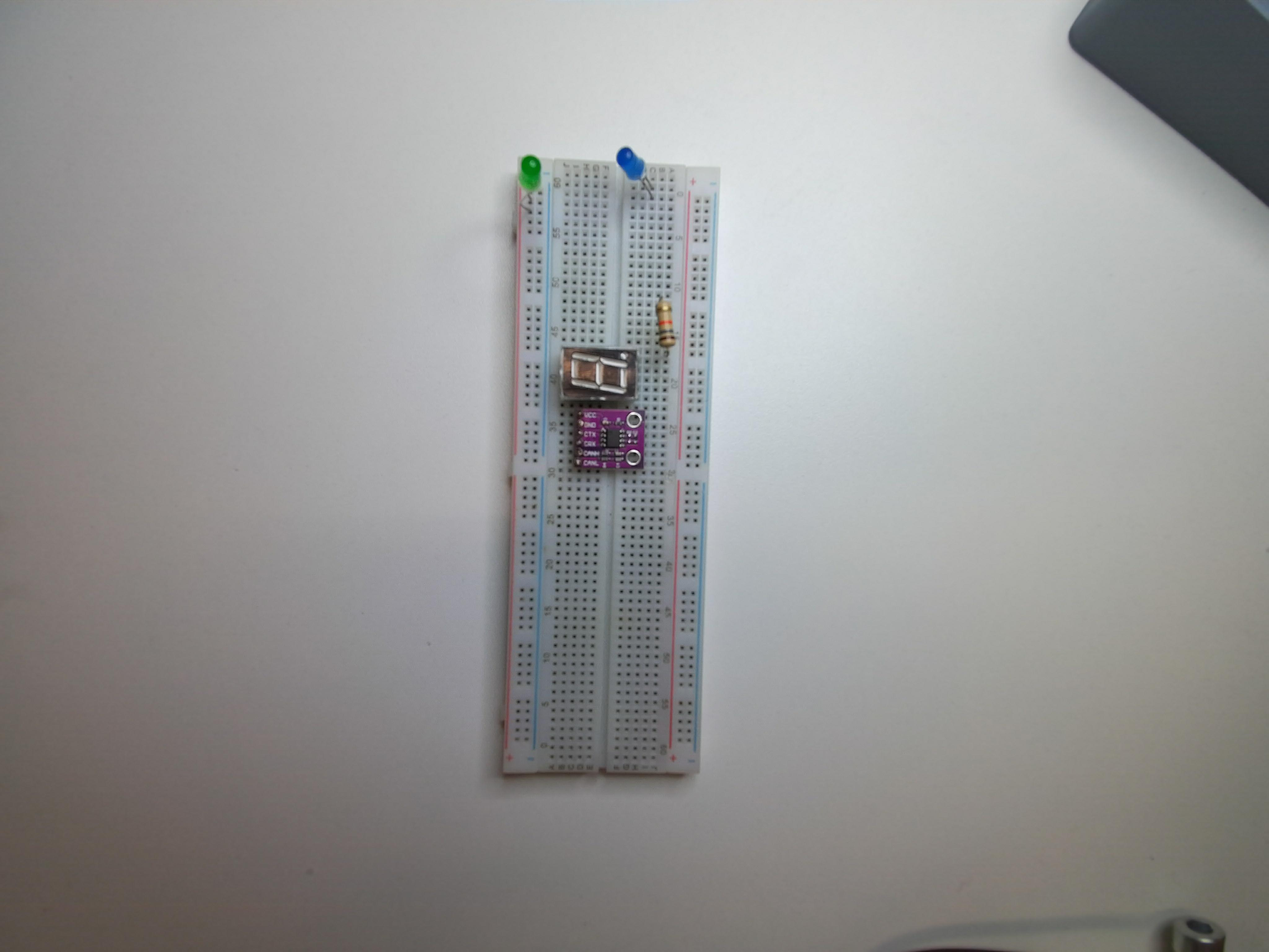base: (492, 142, 726, 785)
blue-led: (615, 144, 649, 184)
digit-board: (561, 344, 635, 402)
green-led: (516, 152, 543, 194)
purple-board: (570, 405, 649, 475)
resistor-big: (651, 298, 678, 350)
